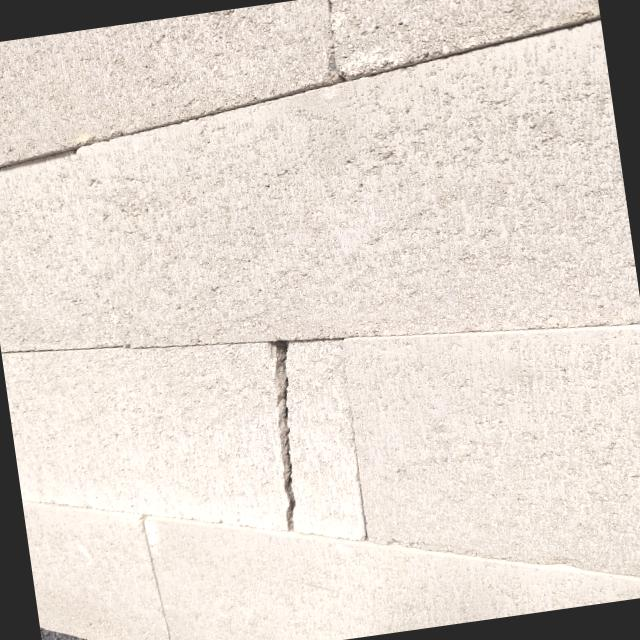crack: (252, 336, 324, 534)
